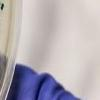Blue_green: (1, 3, 4, 11)
